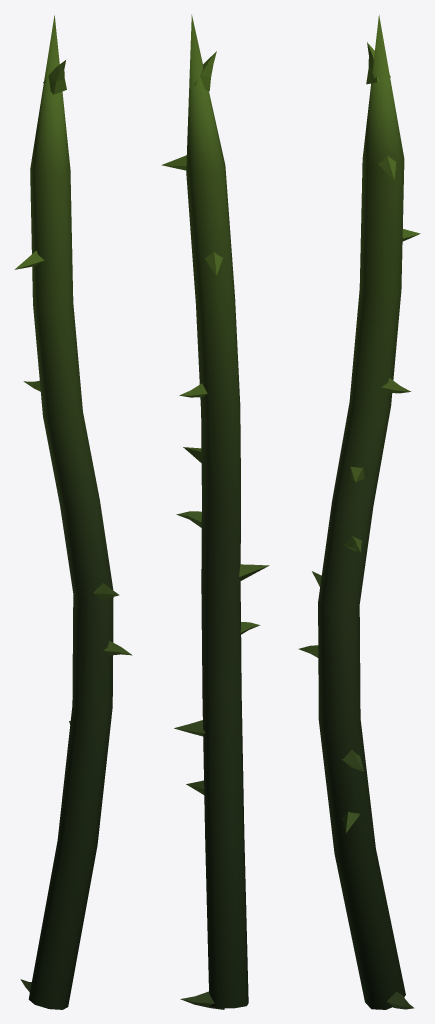
File: SM_Vine_Spike_Single_Hazard_001.fbx
3 renders of one model, left to right at view 1: azimuth 90°, elevation 25°; view 2: azimuth 150°, elevation 25°; view 3: azimuth 270°, elevation 25°, orthographic. The views are drawn at different scales.
Visible parts, largest first — view 1: SM_Vine_Spike_Single_Hazard_001; view 2: SM_Vine_Spike_Single_Hazard_001; view 3: SM_Vine_Spike_Single_Hazard_001.
Part boxes in pixels (box(x1,y1,x2,y2)): SM_Vine_Spike_Single_Hazard_001: box(14, 15, 132, 1009); SM_Vine_Spike_Single_Hazard_001: box(161, 14, 269, 1009); SM_Vine_Spike_Single_Hazard_001: box(298, 15, 420, 1009).
Size of the model in its own units: 0.122 by 1.38 by 0.1517.
